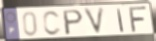0: (22, 11, 40, 39)
C: (42, 10, 63, 37)
F: (129, 6, 149, 35)
I: (117, 8, 125, 34)
P: (63, 9, 85, 37)
V: (82, 6, 106, 37)
